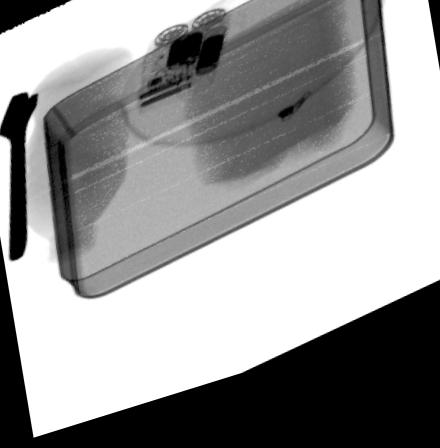Wrench: (0, 88, 44, 265)
